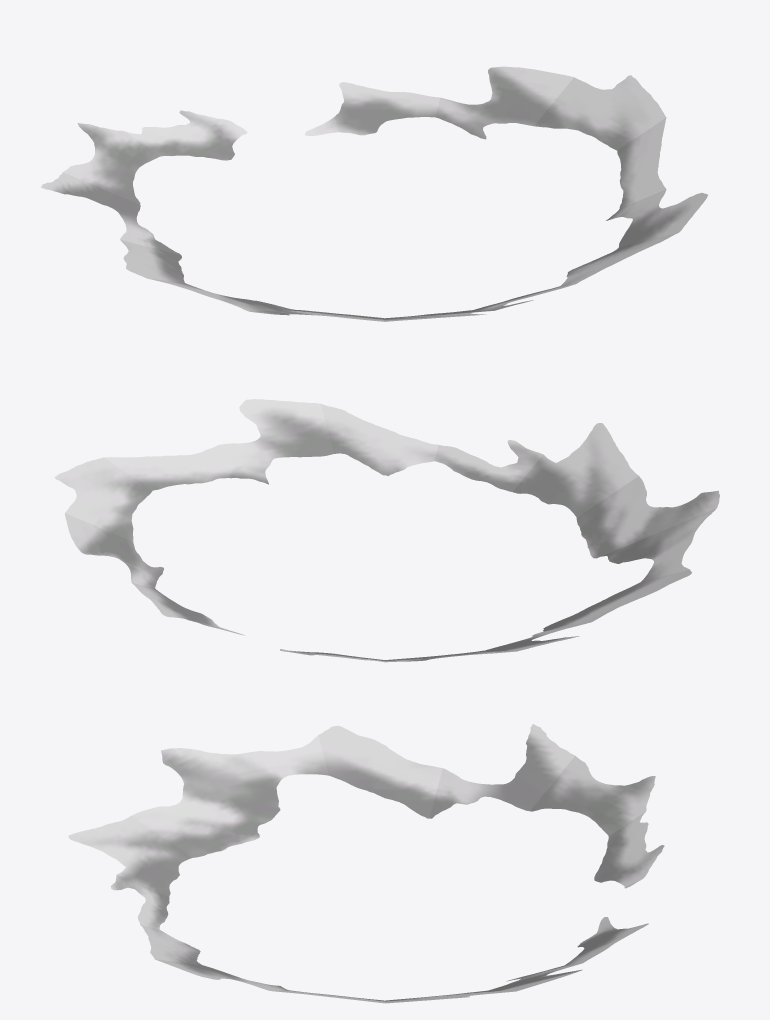
The model's file is dimianyanwumoxing_aplne.FBX.
The picture shows the model from 3 angles, top to bottom: view 1: azimuth 30°, elevation 25°; view 2: azimuth 150°, elevation 25°; view 3: azimuth 270°, elevation 25°; orthographic projection.
Parts seen in each view (by area): view 1: Cylinder001; view 2: Cylinder001; view 3: Cylinder001.
Part boxes in pixels (bbox=[...]): Cylinder001: bbox=[41, 66, 707, 321]; Cylinder001: bbox=[54, 399, 719, 662]; Cylinder001: bbox=[68, 724, 664, 1003].
Size of the model in its own units: 62.54 by 6.78 by 62.88.
